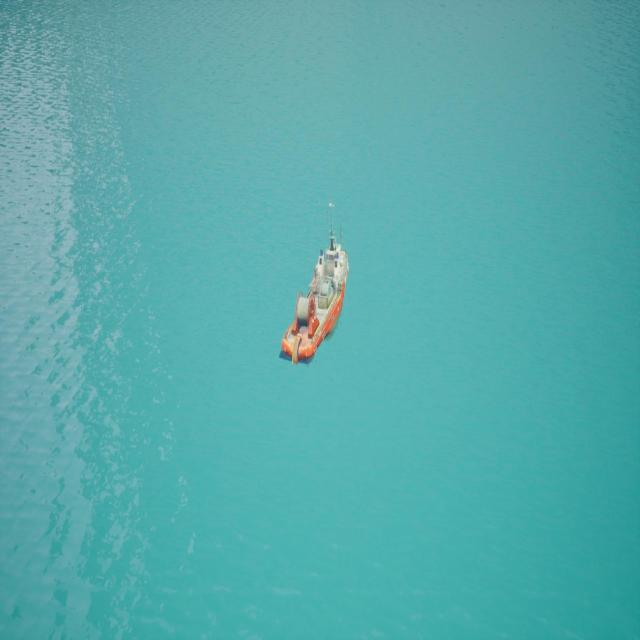tug boat: (297, 219, 350, 365)
